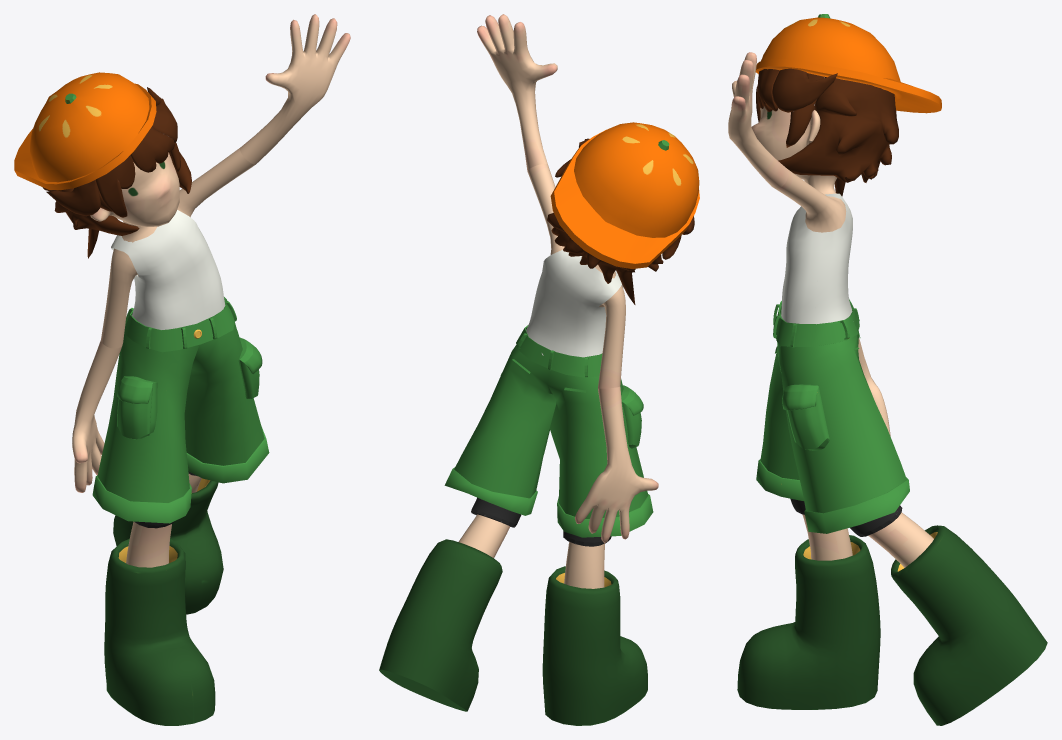
The model's file is zester_wave.glb.
3 views of the same model, side by side, from view 1: azimuth 30°, elevation 25°; view 2: azimuth 150°, elevation 25°; view 3: azimuth 270°, elevation 25° (orthographic). The views are drawn at different scales.
Visible parts, largest first — view 1: pants.001, boots.001, body.001, accessories.001, shirt.001, hair.001; view 2: boots.001, pants.001, accessories.001, body.001, shirt.001, hair.001, underpants.001; view 3: boots.001, pants.001, hair.001, body.001, accessories.001, shirt.001, underpants.001.
Part boxes in pixels (x1,y1,x2,y2): pants.001: (92, 297, 269, 523); boots.001: (104, 478, 223, 725); body.001: (72, 14, 350, 567); accessories.001: (14, 72, 156, 190); shirt.001: (111, 210, 225, 329); hair.001: (42, 87, 191, 258); boots.001: (379, 539, 647, 725); pants.001: (444, 325, 653, 537); accessories.001: (550, 122, 699, 268); body.001: (458, 14, 658, 588); shirt.001: (526, 249, 623, 357); hair.001: (547, 138, 694, 304); underpants.001: (471, 497, 611, 546); boots.001: (737, 525, 1047, 725); pants.001: (756, 299, 909, 533); hair.001: (756, 68, 898, 196); body.001: (728, 52, 933, 567); accessories.001: (755, 14, 941, 113); shirt.001: (781, 193, 852, 324); underpants.001: (790, 498, 902, 536).
Bounding box in the file's own units: 1.12 × 2.7 × 1.12.
7 materials, 7 textured.
